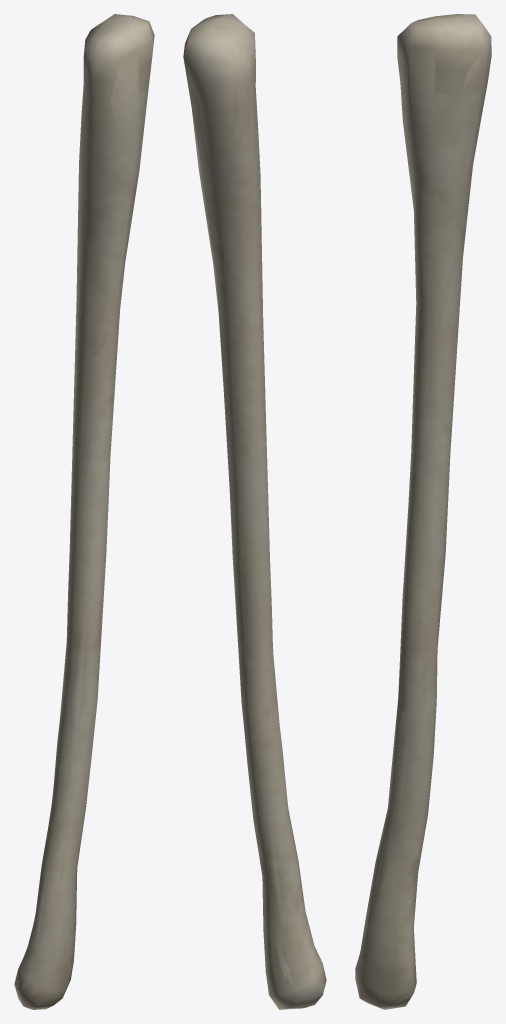
File: L Radius.fbx
The picture shows the model from 3 angles, left to right: view 1: azimuth 30°, elevation 25°; view 2: azimuth 210°, elevation 25°; view 3: azimuth 330°, elevation 25°; orthographic projection. The views are drawn at different scales.
Parts seen in each view (by area): view 1: L Radius, L Radius low, L Radius high; view 2: L Radius, L Radius low, L Radius high; view 3: L Radius, L Radius low, L Radius high.
Boxes of the visible parts, left/top/right/bottom form: L Radius: left=14, top=14, right=154, bottom=1009; L Radius low: left=15, top=15, right=153, bottom=1008; L Radius high: left=20, top=31, right=144, bottom=995; L Radius: left=183, top=14, right=326, bottom=1009; L Radius low: left=184, top=14, right=324, bottom=1008; L Radius high: left=193, top=20, right=317, bottom=1008; L Radius: left=355, top=14, right=491, bottom=1009; L Radius low: left=356, top=14, right=488, bottom=1008; L Radius high: left=358, top=19, right=488, bottom=985.
Bounding box in the file's own units: 1.35 × 9.73 × 0.7657.
Materials: 1 (1 with a texture image).
